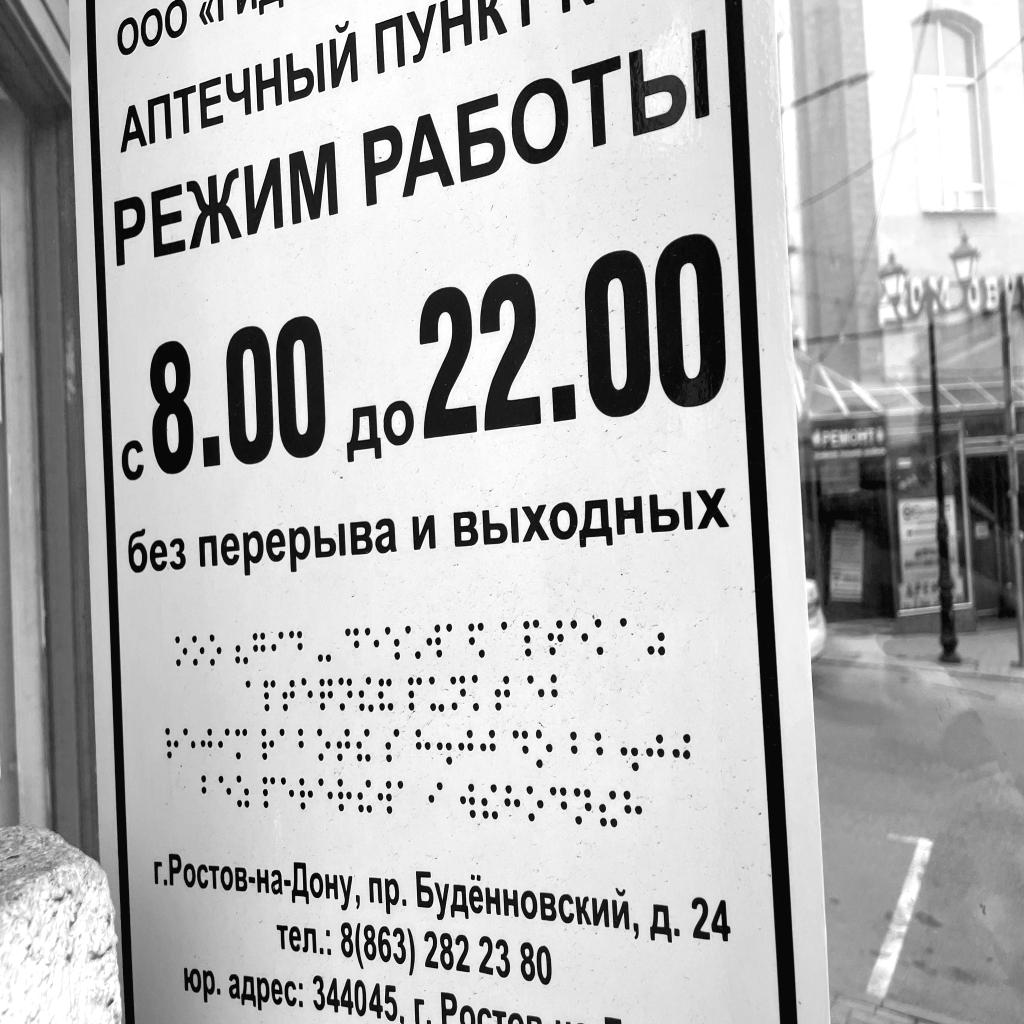_n: (573, 787, 592, 826), (450, 676, 467, 711), (338, 678, 353, 710)
_y: (428, 676, 445, 713)
a: (619, 616, 637, 652), (500, 620, 517, 655), (446, 623, 463, 656), (397, 779, 413, 813), (245, 680, 260, 711), (279, 727, 293, 759)
b: (201, 775, 217, 807), (297, 727, 312, 759)
ch: (319, 678, 334, 710)
d: (511, 729, 529, 766), (549, 787, 567, 823), (344, 627, 360, 659), (289, 630, 304, 662)
defis: (317, 635, 332, 664)
e: (570, 619, 588, 655), (318, 777, 334, 811), (364, 627, 380, 659), (280, 777, 295, 809), (182, 728, 196, 759), (218, 775, 232, 806), (301, 677, 314, 710)
g: (252, 631, 266, 663)
gh: (199, 728, 213, 759)
i: (428, 781, 443, 814), (217, 728, 230, 760), (271, 631, 284, 662)
iKratkoe: (378, 678, 395, 711)
ii: (598, 790, 618, 828), (481, 784, 499, 820), (359, 677, 375, 712), (357, 779, 373, 814), (356, 729, 371, 762)
k: (595, 618, 614, 656), (471, 674, 488, 712)
kavichki1: (235, 635, 249, 666)
kavichki2: (648, 621, 665, 657)
m: (234, 728, 248, 760)
o: (526, 785, 544, 822), (536, 730, 553, 768), (317, 728, 332, 762), (191, 635, 205, 666), (174, 636, 188, 666), (209, 634, 222, 666)
p: (523, 620, 540, 658), (408, 676, 423, 711), (263, 680, 276, 712), (262, 776, 275, 808)
r: (337, 778, 353, 813), (164, 727, 180, 759), (298, 777, 313, 810), (260, 728, 275, 760)
s: (385, 729, 400, 762)
sh: (385, 626, 401, 660)
t: (546, 620, 564, 656), (494, 675, 511, 711), (336, 728, 350, 762), (282, 680, 296, 712)
tochka: (621, 733, 640, 772), (437, 731, 453, 766)
v: (459, 782, 476, 819), (377, 780, 394, 815), (425, 624, 443, 657)
x: (623, 790, 643, 828), (504, 785, 521, 819)
ya: (467, 622, 485, 658)
yo: (404, 625, 421, 659)
z: (236, 775, 251, 808)
